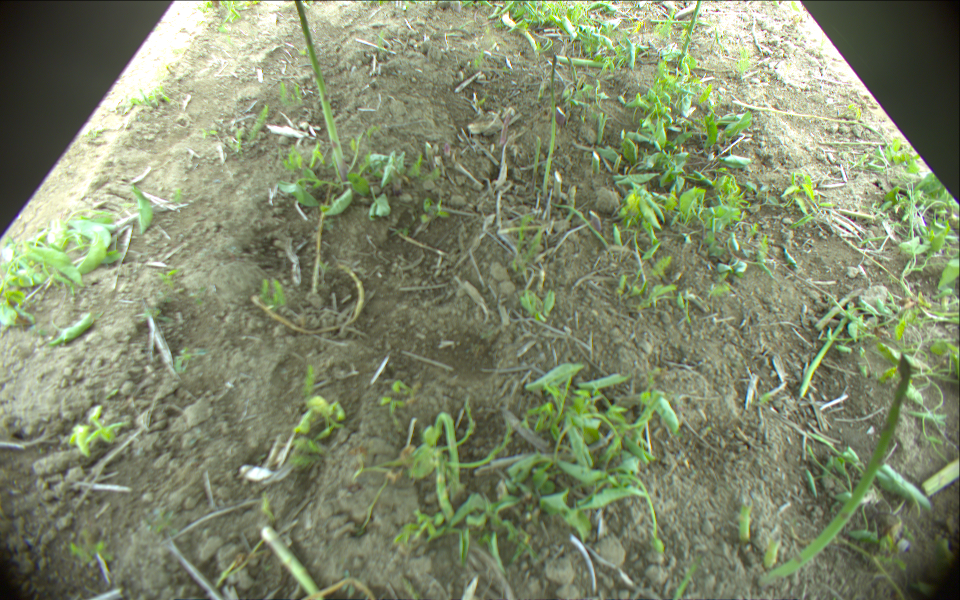aspa: (759, 355, 908, 588), (291, 1, 346, 182), (732, 102, 896, 162), (262, 529, 323, 600), (797, 313, 849, 396), (543, 55, 557, 195), (923, 457, 960, 498), (500, 14, 538, 52), (680, 1, 702, 60), (555, 53, 611, 70), (759, 532, 781, 569), (739, 500, 750, 543), (533, 136, 540, 184), (592, 154, 599, 173)
